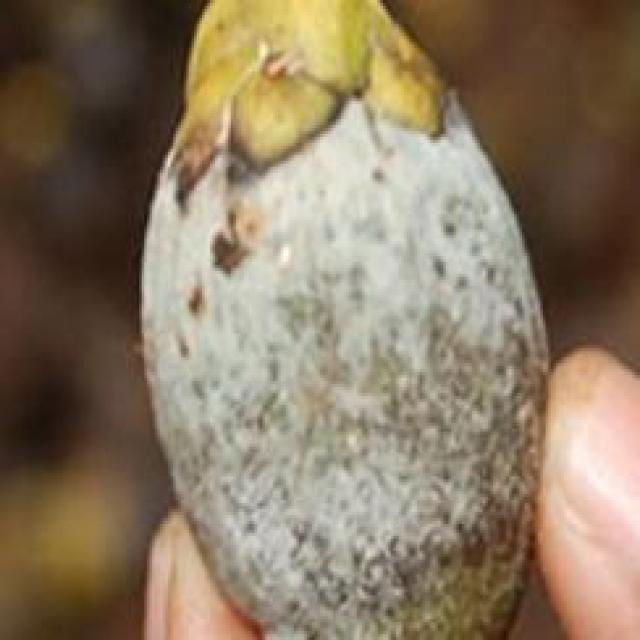damaged: (139, 0, 553, 637)
